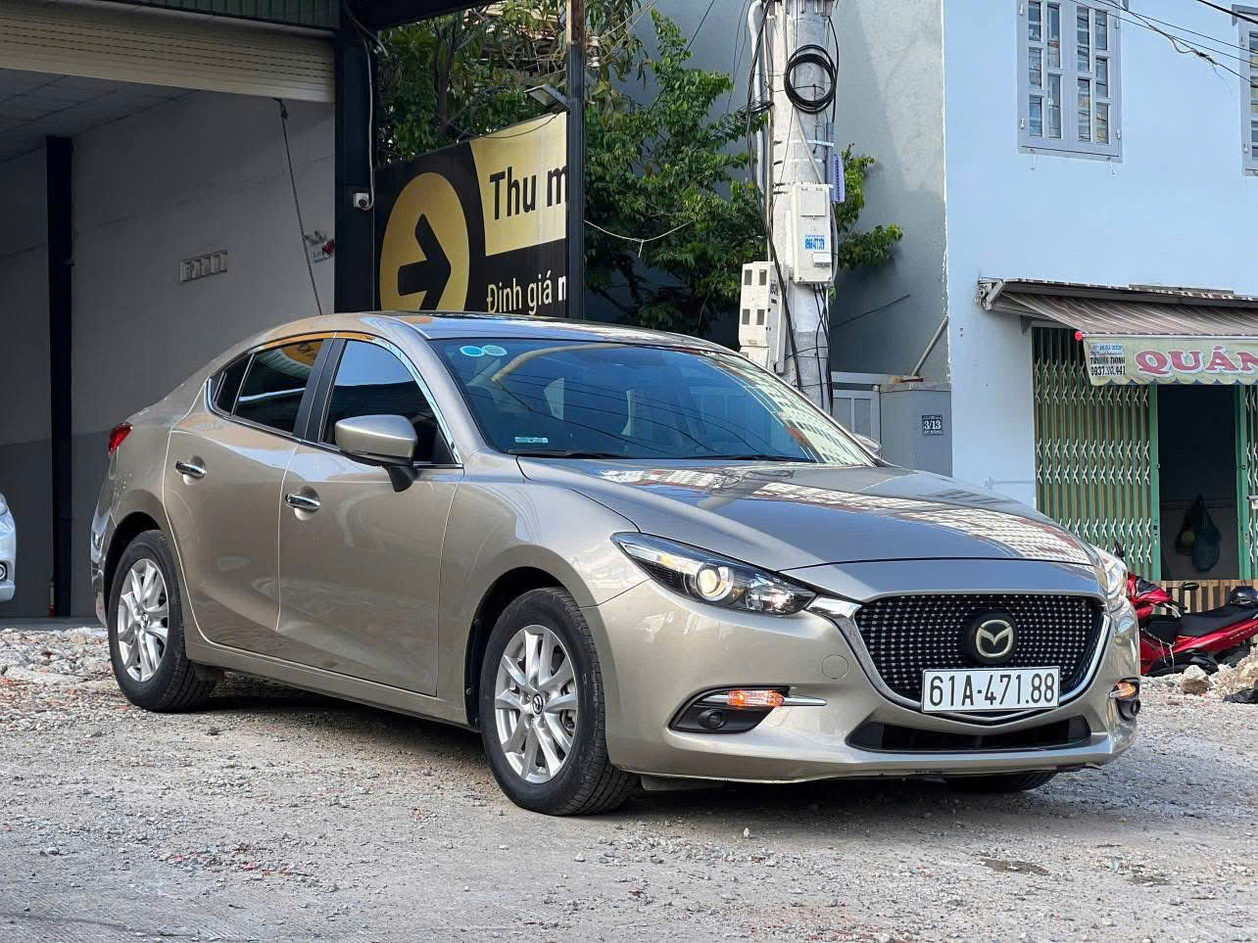Bien-so: (927, 668, 1068, 717)
